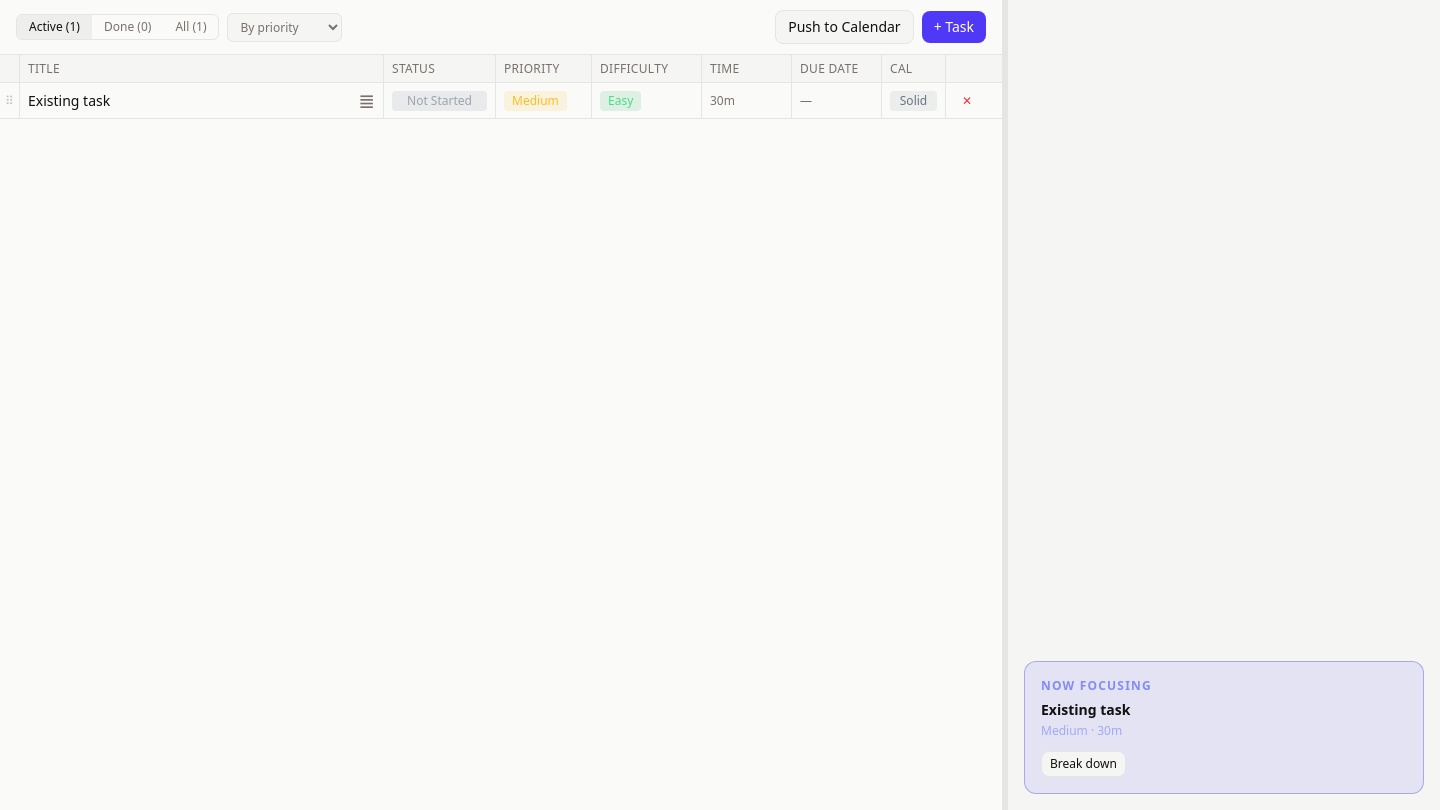
WorkspacePage regressions › undo delete preserves a Solid task instead of recreating it as Split
Click the button titled "Delete" at {"x": 967, "y": 100}, box [954,88,980,112]
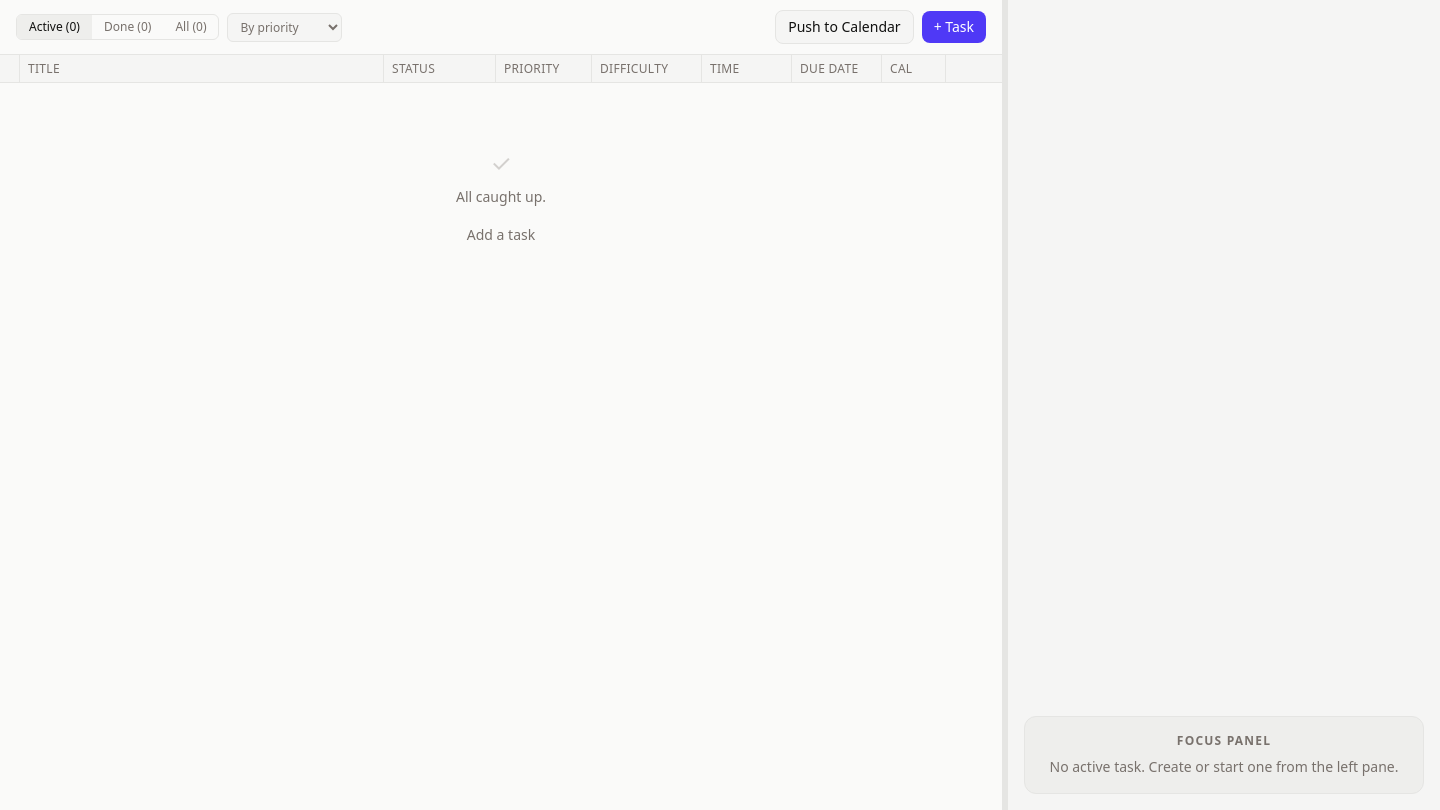
Expected: the element with test id "task-row-task-1" is gone
Press z
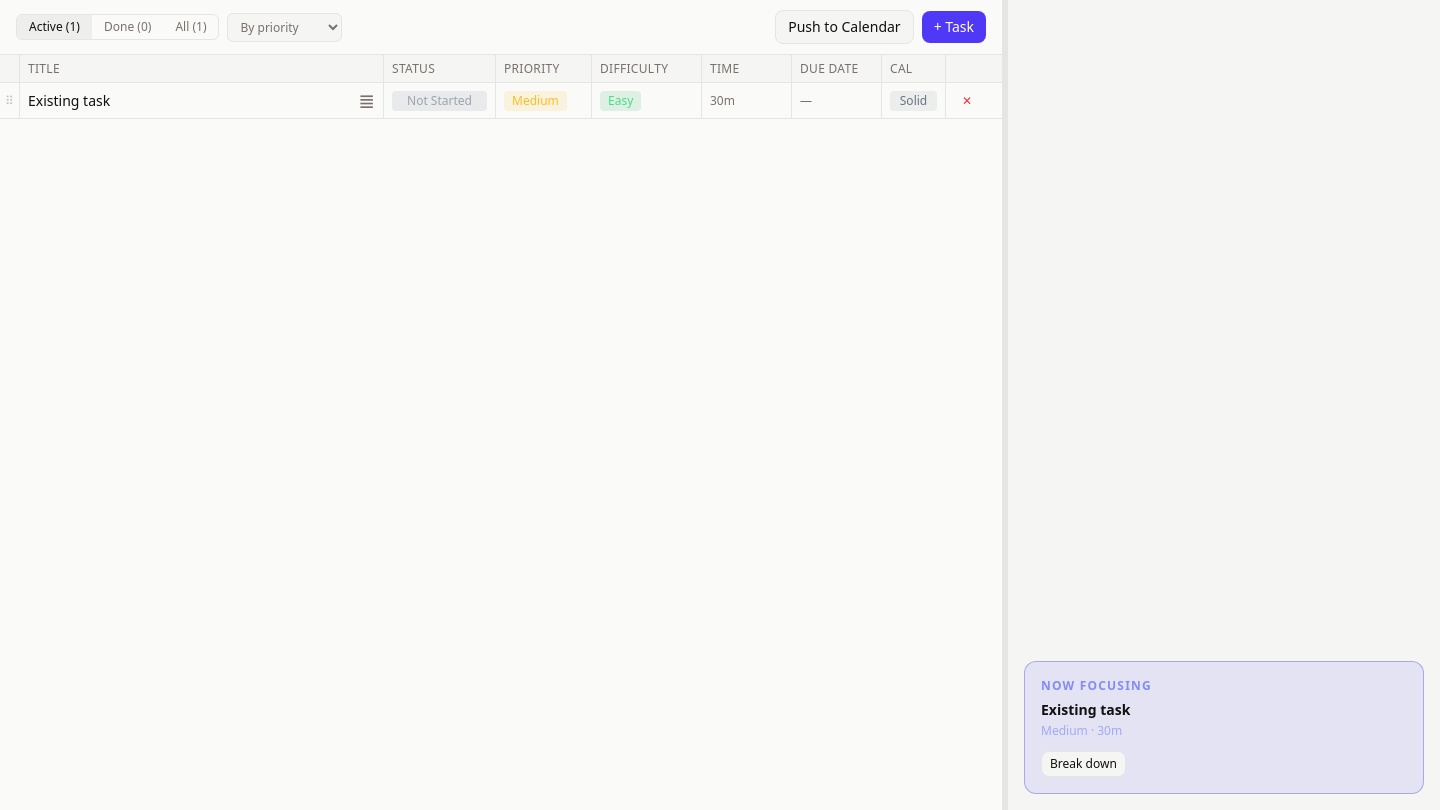
Expected: the button "Solid" is shown, [890,90,937,110]
